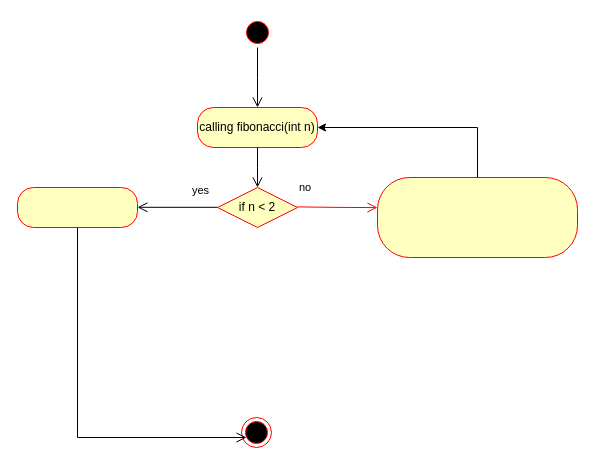
Image size: 595x466. Some labels were removed from this diagram. The centre of each missing label's shape, as x and y in pixels:
"return fibonacci(n-1)+fibonacci(n+2)" goes at (477,217).
"return n" goes at (77,207).
